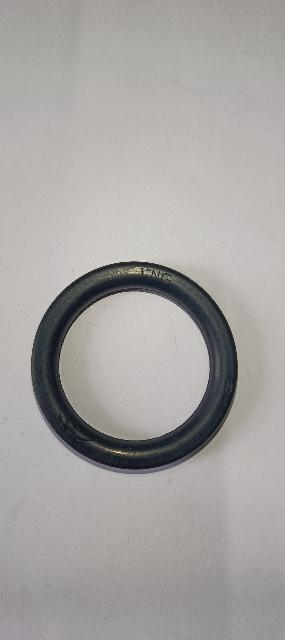4: (221, 376, 237, 399)
scratch: (59, 408, 98, 444)
